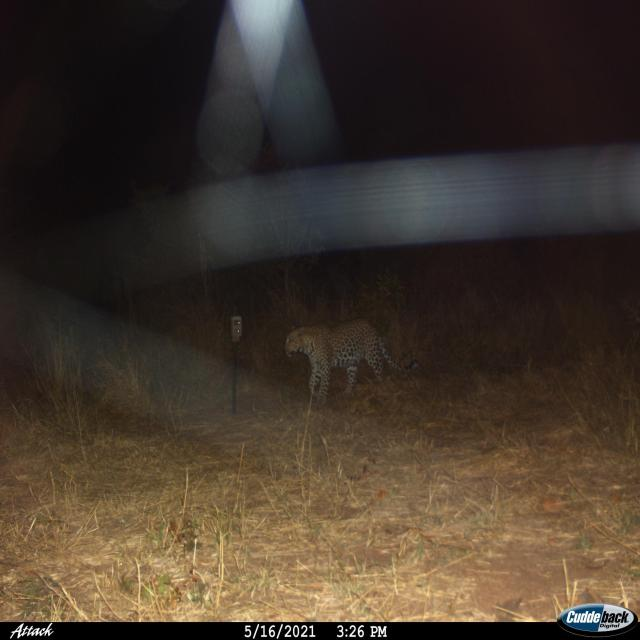Leopard: (279, 317, 424, 405)
